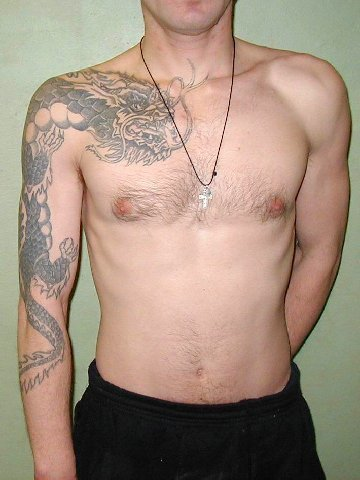tatu6_drakon: (7, 63, 185, 398)
